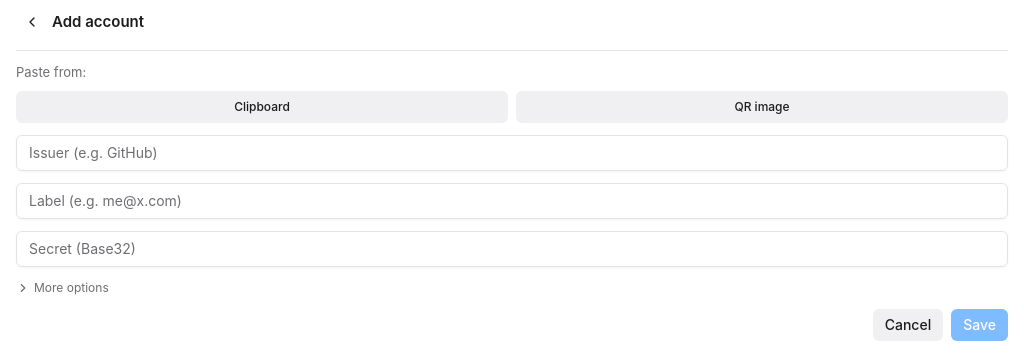
Test: AddView manual entry › keeps Save disabled until a secret is entered
This screenshot has width=1024, height=358.
Expected: the button "Save" is disabled, [951, 308, 1008, 340]
Type "GEZDGNBVGY3TQOJQ" into the field with placeholder "Secret (Base32)".
click(512, 248); type("GEZDGNBVGY3TQOJQ")  # box [16, 230, 1008, 266]
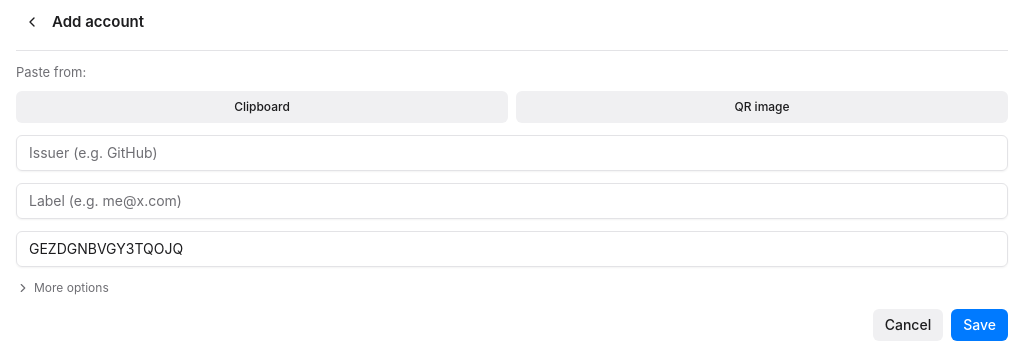
Expected: the button "Save" is enabled, [951, 308, 1008, 340]
